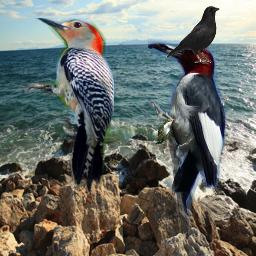Crow: (166, 5, 220, 64)
Cuckoo: (156, 119, 174, 144)
Woodpecker: (24, 18, 114, 193), (148, 41, 226, 238)
